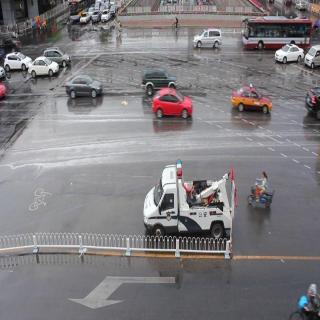Car: (240, 14, 314, 55), (149, 85, 195, 124), (229, 82, 274, 119), (140, 63, 178, 99), (65, 72, 103, 105), (191, 25, 224, 54), (274, 40, 304, 68), (27, 54, 58, 80), (4, 50, 29, 77), (306, 41, 320, 70), (101, 6, 111, 24), (80, 10, 89, 24), (92, 10, 100, 24)
